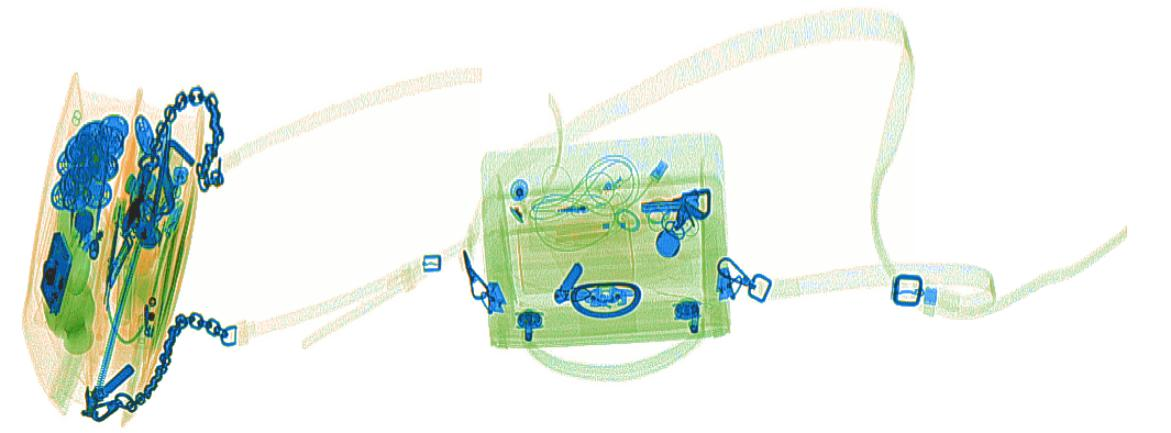seal: (43, 275, 97, 356)
